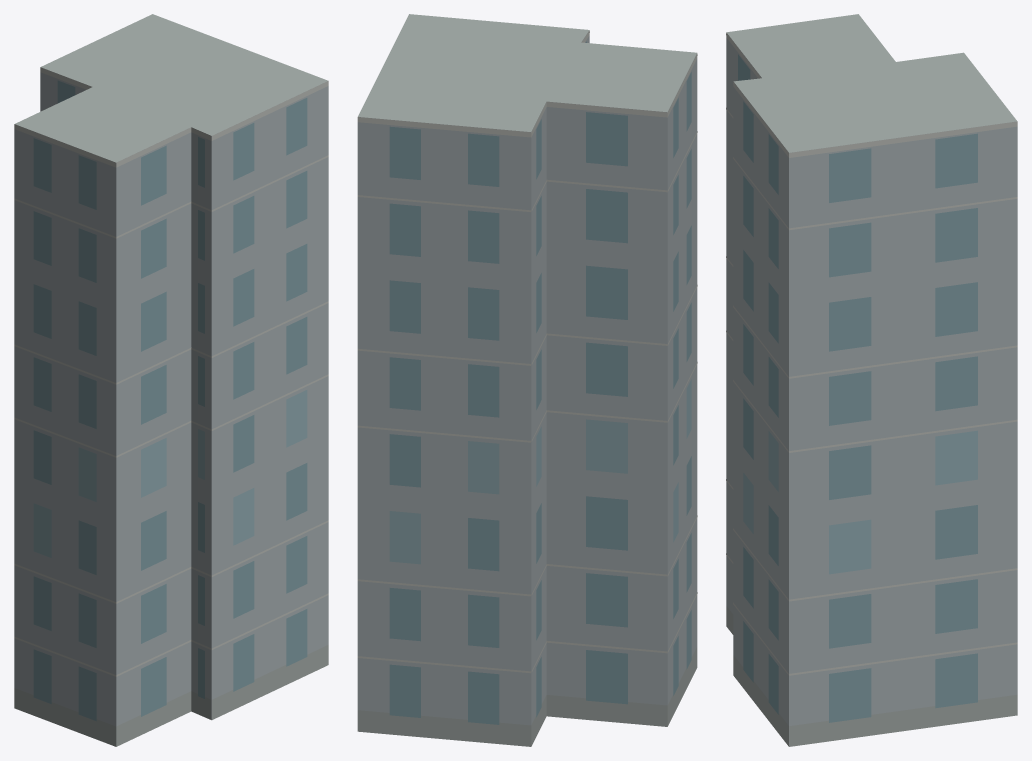
Rendered from survey-upis-32531229.glb.
The picture shows the model from 3 angles, left to right: view 1: azimuth 30°, elevation 25°; view 2: azimuth 150°, elevation 25°; view 3: azimuth 270°, elevation 25°; orthographic projection. The views are drawn at different scales.
Visible parts, largest first — view 1: survey-upis-32531229.tmp; view 2: survey-upis-32531229.tmp; view 3: survey-upis-32531229.tmp.
Part boxes in pixels (left/top/right/bottom): survey-upis-32531229.tmp: left=14, top=14, right=328, bottom=746; survey-upis-32531229.tmp: left=357, top=14, right=697, bottom=746; survey-upis-32531229.tmp: left=726, top=14, right=1017, bottom=746.
Bounding box in the file's own units: 14.01 × 27.9 × 12.42.
